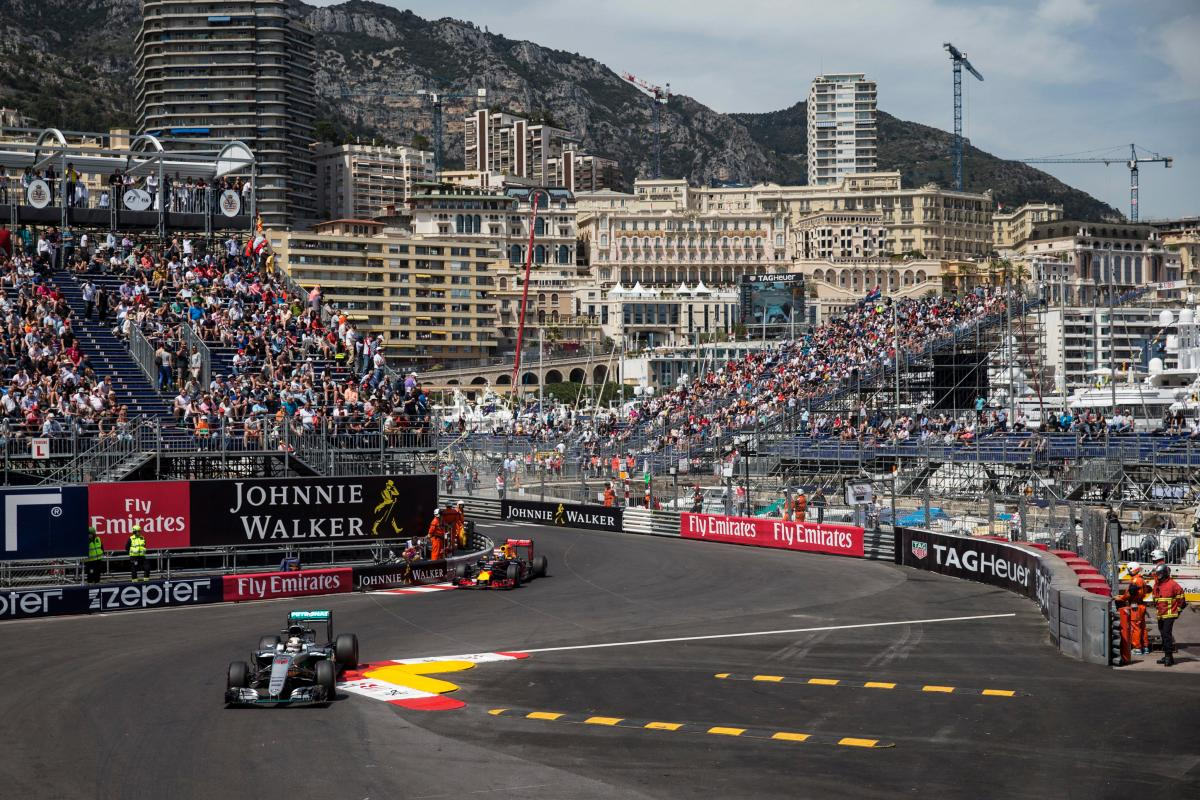race car: (223, 607, 362, 712), (449, 536, 551, 598)
